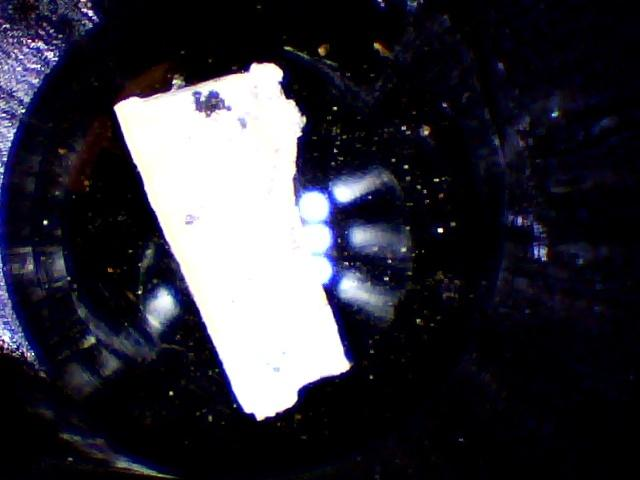megot: (99, 48, 364, 433)
